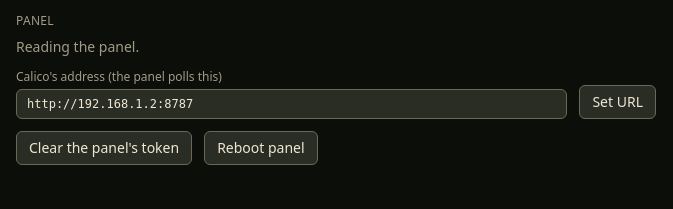
Set URL keeps Settings in step › still shows the panel's error when it refuses the URL
Click the button "Set URL" at (618, 102), box [579, 85, 656, 119]
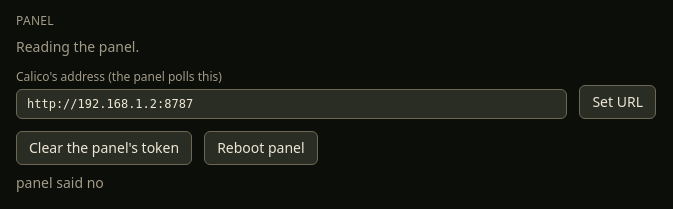
Expected: the text "panel said no" is shown, [16, 173, 104, 192]
